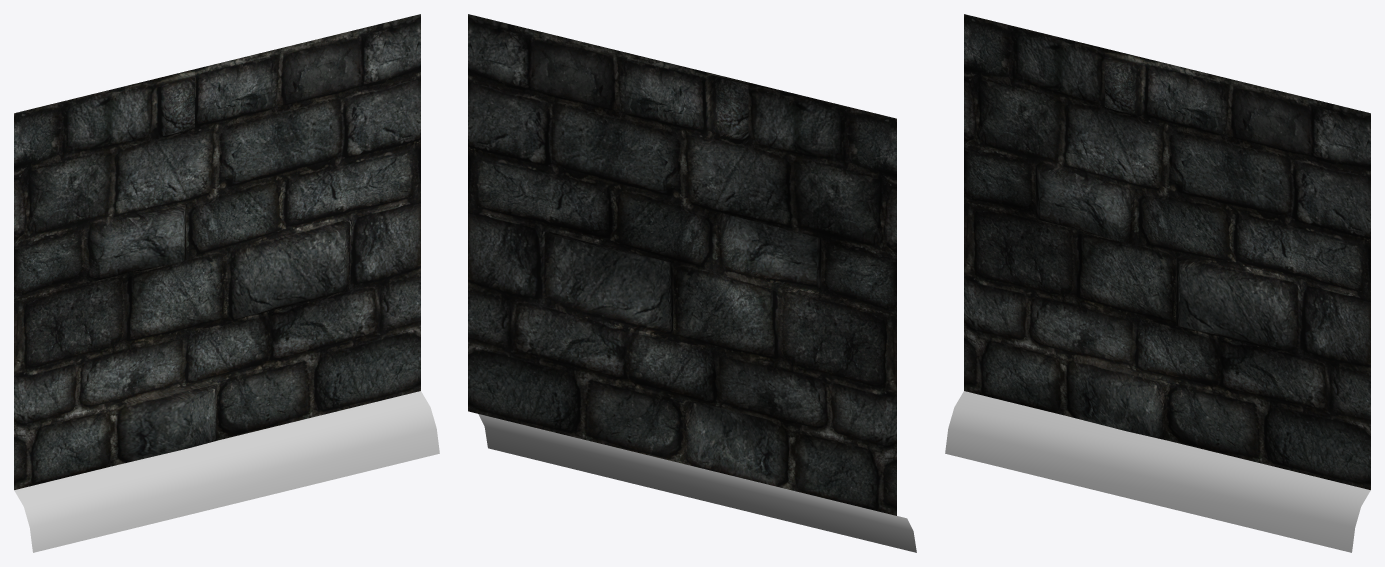
The model's file is default_square_brick.dae.
3 renders of one model, left to right at view 1: azimuth 30°, elevation 25°; view 2: azimuth 150°, elevation 25°; view 3: azimuth 330°, elevation 25°, orthographic. The views are drawn at different scales.
Visible parts, largest first — view 1: polySurface117, polySurface120; view 2: polySurface117, polySurface120; view 3: polySurface117, polySurface120.
Part boxes in pixels (<box>): polySurface117: <box>14,14,420,489</box>; polySurface120: <box>14,391,439,552</box>; polySurface117: <box>468,14,896,515</box>; polySurface120: <box>478,414,916,552</box>; polySurface117: <box>964,14,1370,489</box>; polySurface120: <box>945,391,1370,552</box>.
Size of what is drawn, in the model's own units: 400 by 400 by 32.19.
